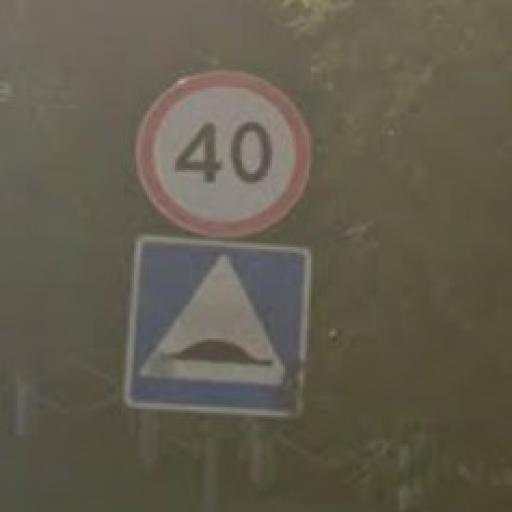traffic_sign: (124, 236, 314, 422), (137, 66, 314, 244)
